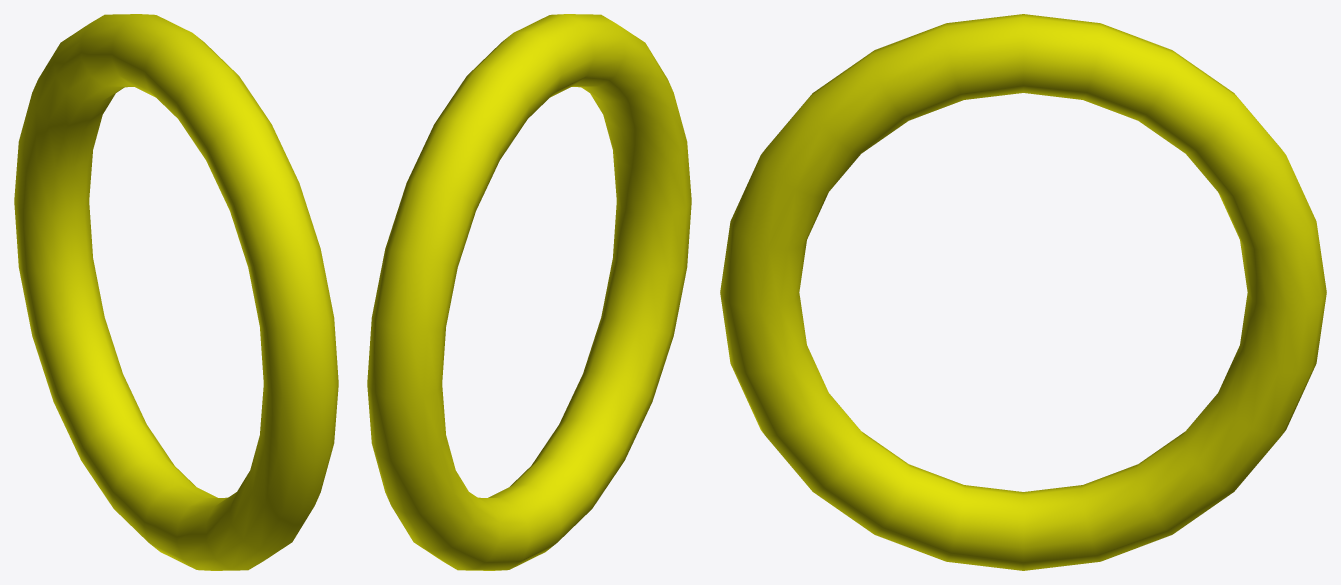
The model's file is ring_1.fbx.
3 views of the same model, side by side, from view 1: azimuth 30°, elevation 25°; view 2: azimuth 150°, elevation 25°; view 3: azimuth 270°, elevation 25° (orthographic). The views are drawn at different scales.
Parts seen in each view (by area): view 1: ring1; view 2: ring1; view 3: ring1.
Part boxes in pixels (box(x1,y1,x2,y2)): ring1: box(14, 14, 338, 570); ring1: box(367, 14, 691, 570); ring1: box(720, 14, 1326, 570).
Bounding box in the file's own units: 122 × 933 × 933.
